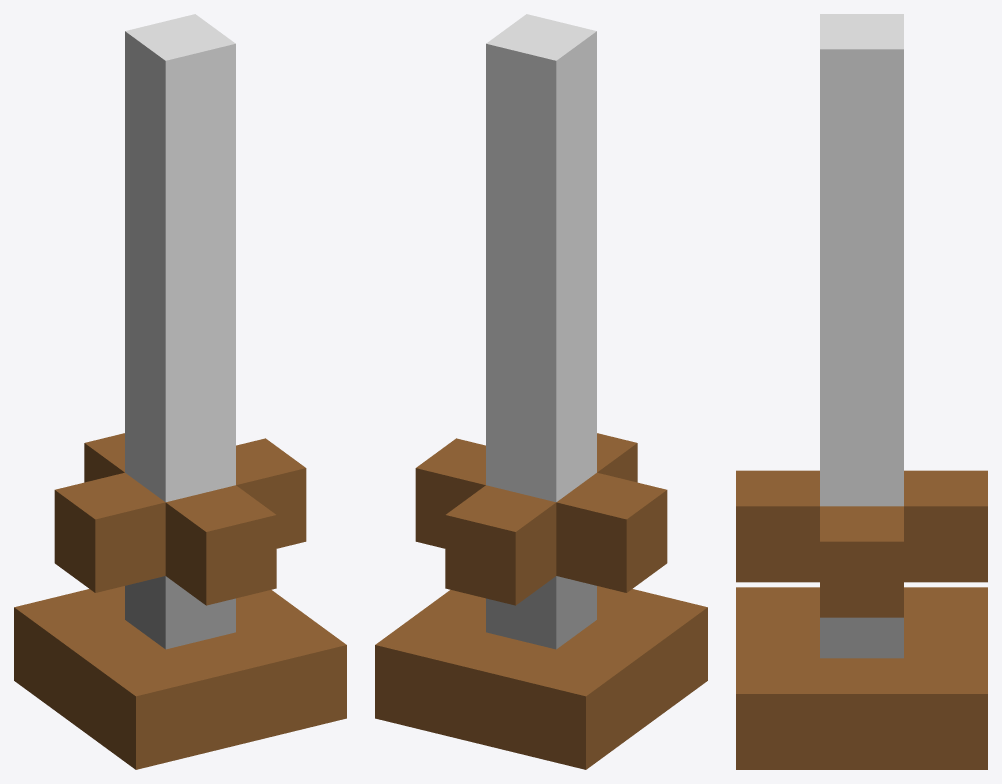
File: Candle A.obj
3 views of the same model, side by side, from view 1: azimuth 30°, elevation 25°; view 2: azimuth 150°, elevation 25°; view 3: azimuth 270°, elevation 25° (orthographic). The views are drawn at different scales.
Parts seen in each view (by area): view 1: Candle A; view 2: Candle A; view 3: Candle A.
Boxes of the visible parts, <box> form: Candle A: <box>14,14,346,769</box>; Candle A: <box>375,14,707,769</box>; Candle A: <box>736,14,987,769</box>.
Bounding box in the file's own units: 3 × 9 × 3.
